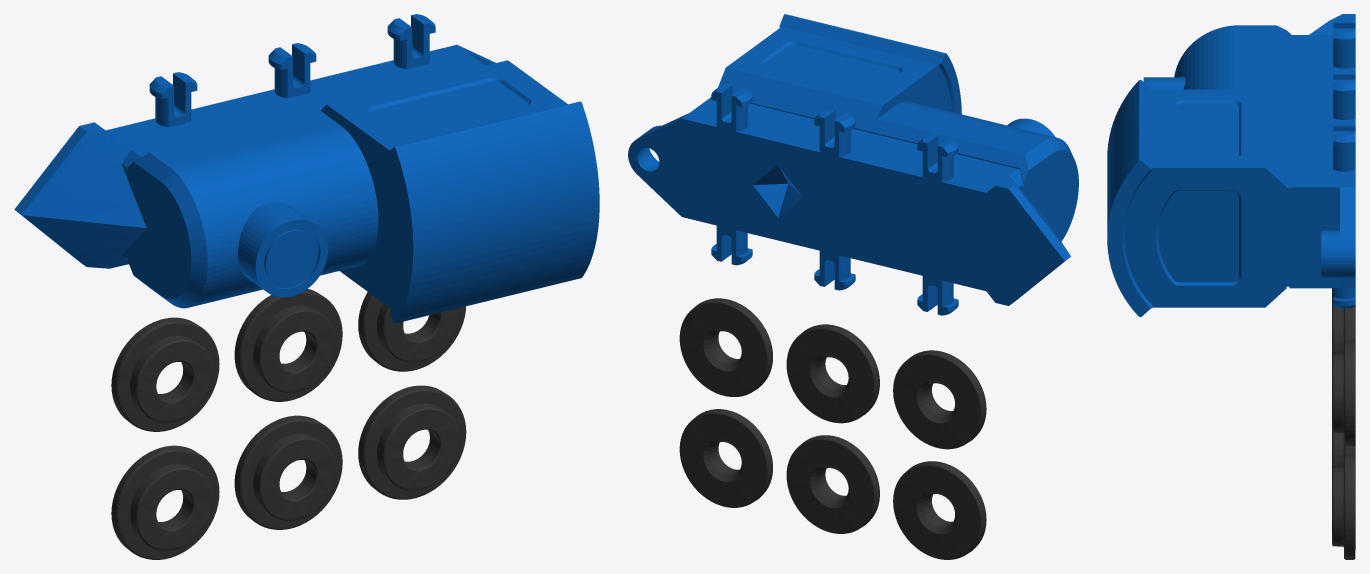
Rendered from Train Engine.obj.
3 renders of one model, left to right at view 1: azimuth 30°, elevation 25°; view 2: azimuth 150°, elevation 25°; view 3: azimuth 270°, elevation 25°, orthographic. The views are drawn at different scales.
Parts seen in each view (by area): view 1: Object.1, Object.5, Object.6, Object.3, Object.4, Object.2, Object.7; view 2: Object.1, Object.2, Object.4, Object.6, Object.5, Object.7, Object.3; view 3: Object.1, Object.7, Object.5, Object.2, Object.4.
Boxes of the visible parts, bbox=[...] form: Object.1: bbox=[14, 14, 599, 323]; Object.5: bbox=[358, 385, 466, 499]; Object.6: bbox=[111, 445, 219, 559]; Object.3: bbox=[111, 317, 219, 431]; Object.4: bbox=[234, 415, 342, 529]; Object.2: bbox=[234, 289, 342, 401]; Object.7: bbox=[358, 292, 465, 371]; Object.1: bbox=[628, 14, 1078, 315]; Object.2: bbox=[786, 324, 879, 423]; Object.4: bbox=[786, 435, 879, 533]; Object.6: bbox=[893, 461, 986, 559]; Object.5: bbox=[679, 409, 772, 507]; Object.7: bbox=[679, 298, 772, 396]; Object.3: bbox=[893, 350, 986, 449]; Object.1: bbox=[1107, 14, 1355, 316]; Object.7: bbox=[1332, 340, 1355, 446]; Object.5: bbox=[1332, 454, 1355, 559]; Object.2: bbox=[1332, 300, 1355, 354]; Object.4: bbox=[1332, 431, 1355, 468].
Bounding box in the file's own units: 97.5 × 88.3 × 46.84.
